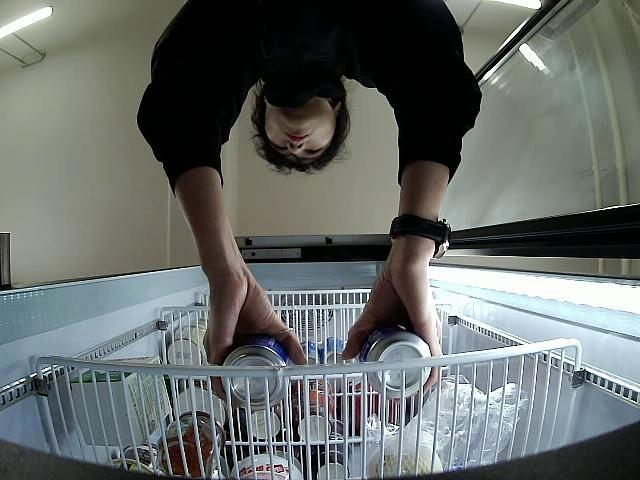13_pocariSweat: (358, 323, 432, 398), (222, 334, 291, 407)
